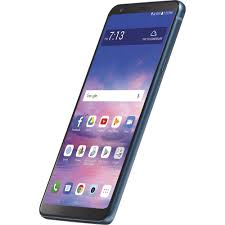lg: (37, 1, 193, 225)
